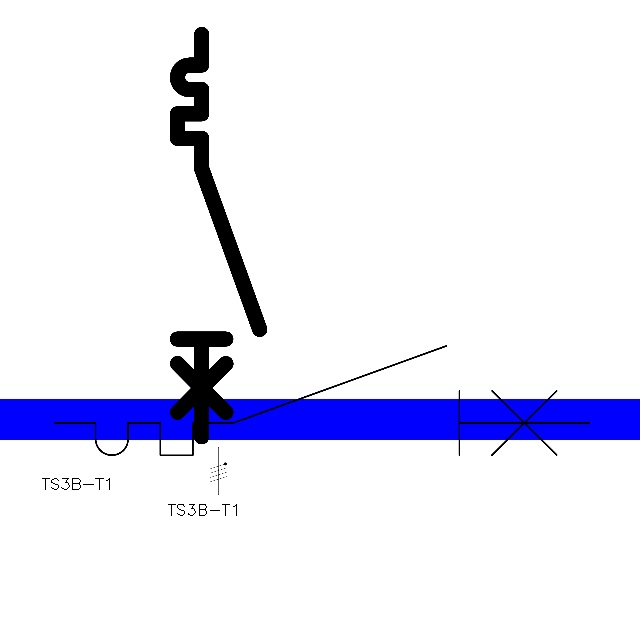interruptor_termomagnetico: (41, 332, 603, 469), (167, 24, 270, 447)
